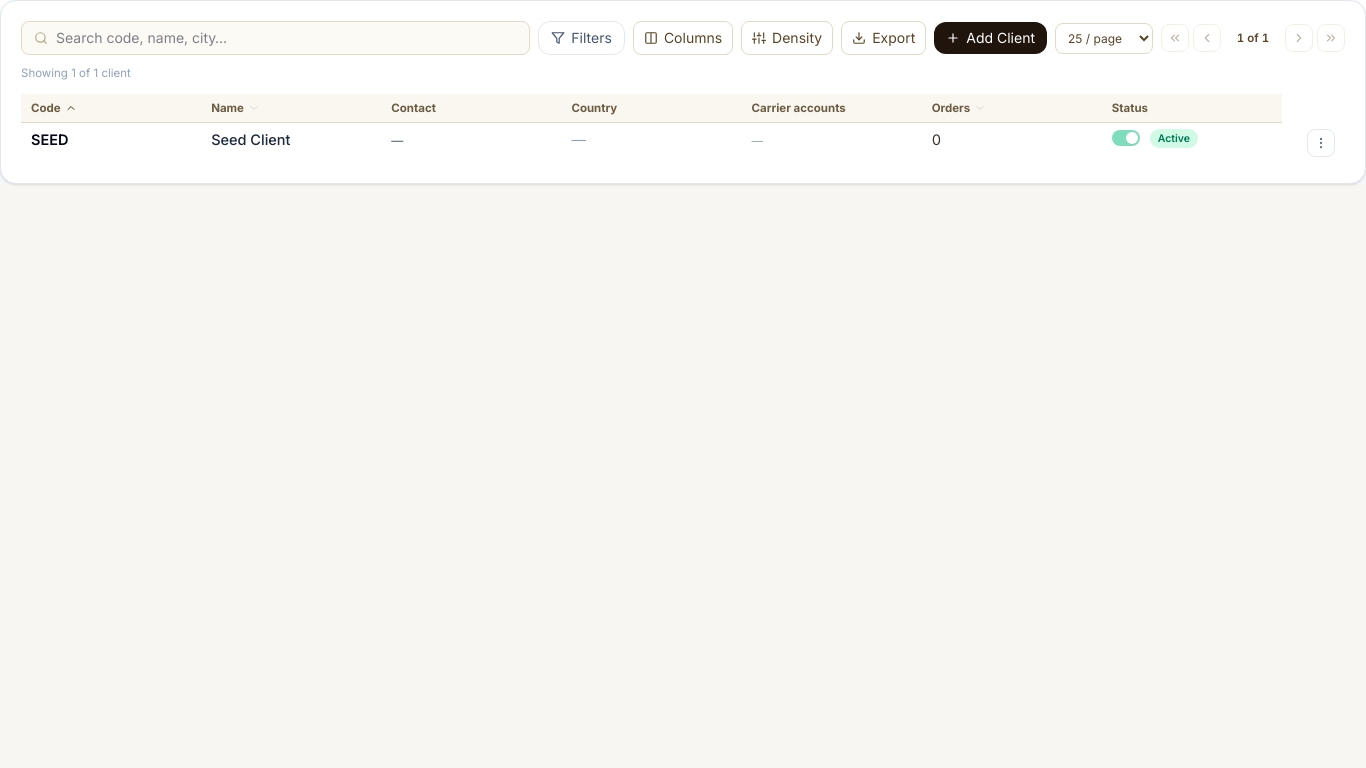
ClientsPage · Filters · cross-cutting › renders the filter controls for a USER role (no role gating on filters)
This screenshot has width=1366, height=768.
Expected: the field with placeholder "Search code, name, city…" is shown, [56,28,517,48]
# The Filters button + panel content are identical across roles.
Click the button "Filters".
click(582, 38)  # box [538,21,625,55]
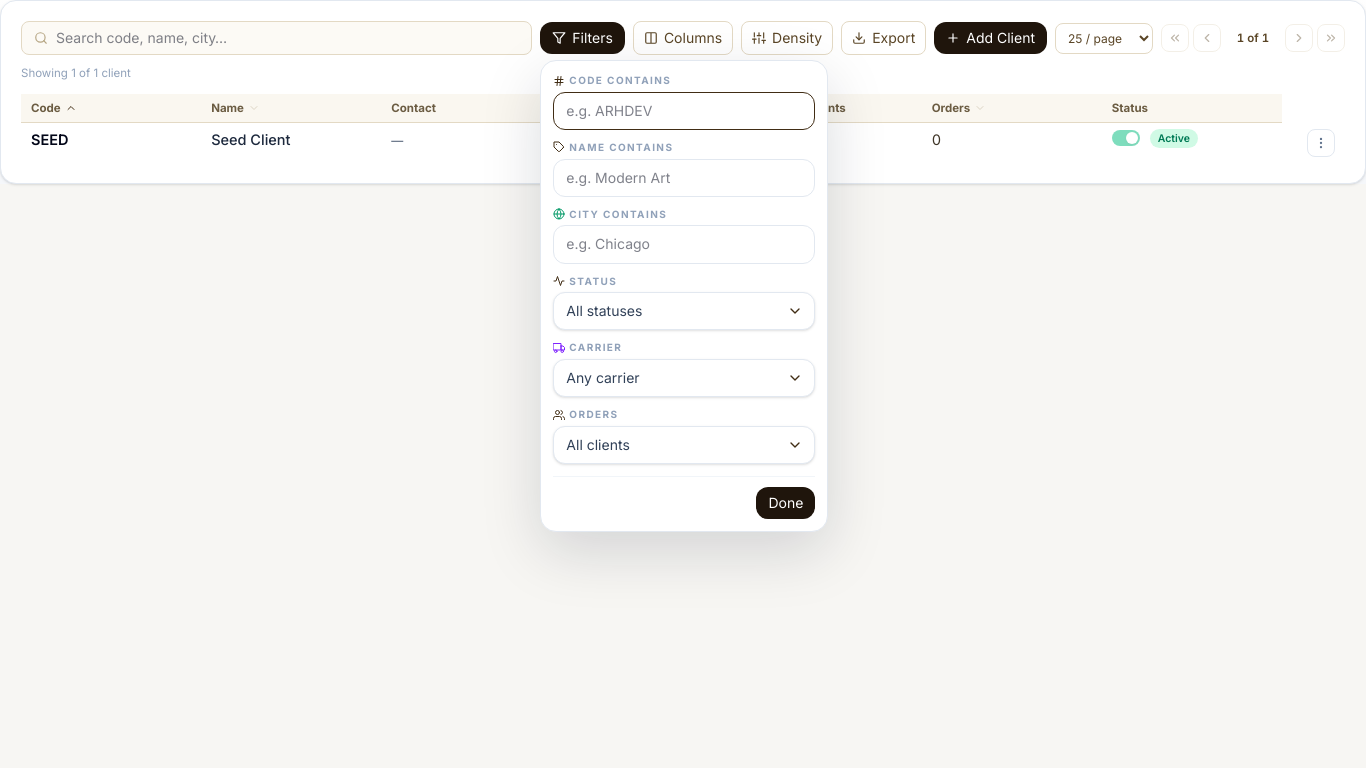
Expected: the dropdown named "Filter by status" is shown, [553,292,815,330]
Expected: the dropdown named "Filter by carrier" is shown, [553,359,815,397]
Expected: the dropdown named "Filter by orders" is shown, [553,426,815,464]
